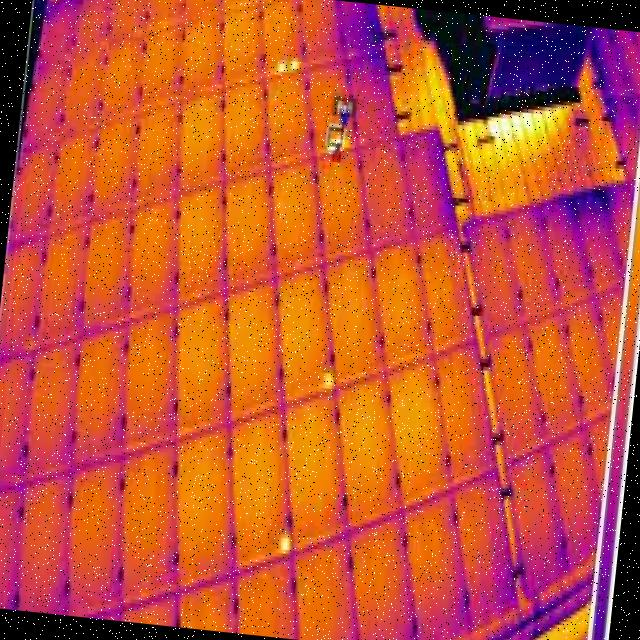Hotspot: (275, 518, 300, 559), (318, 364, 342, 394), (274, 56, 288, 80), (289, 56, 299, 76)
